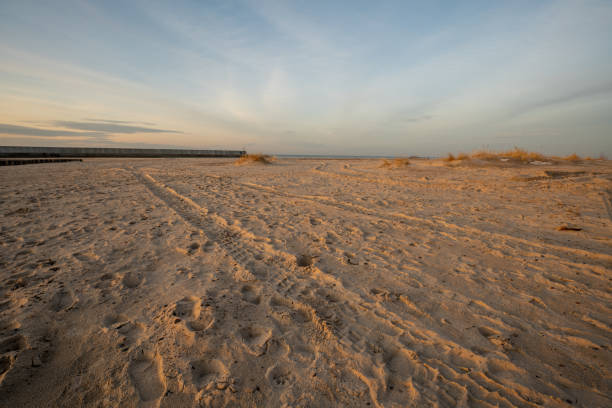vehicle_track: (262, 263, 525, 405), (238, 182, 611, 262), (131, 169, 264, 267), (132, 170, 265, 265), (359, 246, 412, 280), (311, 168, 405, 185), (449, 233, 503, 250), (602, 189, 611, 220)
